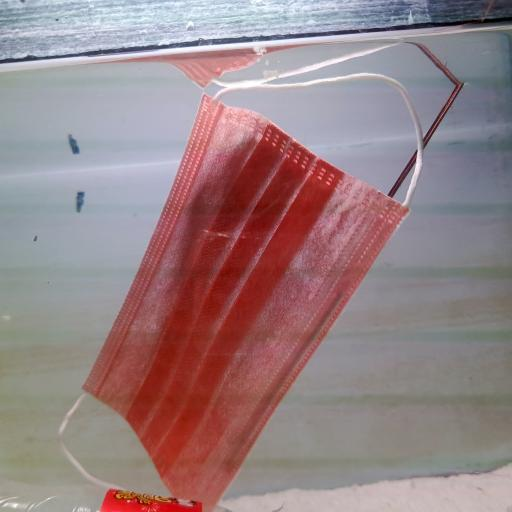mask: (53, 70, 425, 502)
plastic_bottle: (2, 496, 219, 512)
